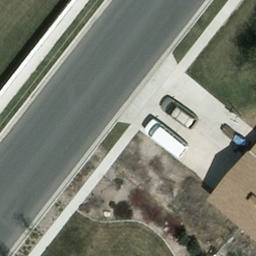car: (156, 94, 202, 129)
van: (141, 117, 190, 161)
